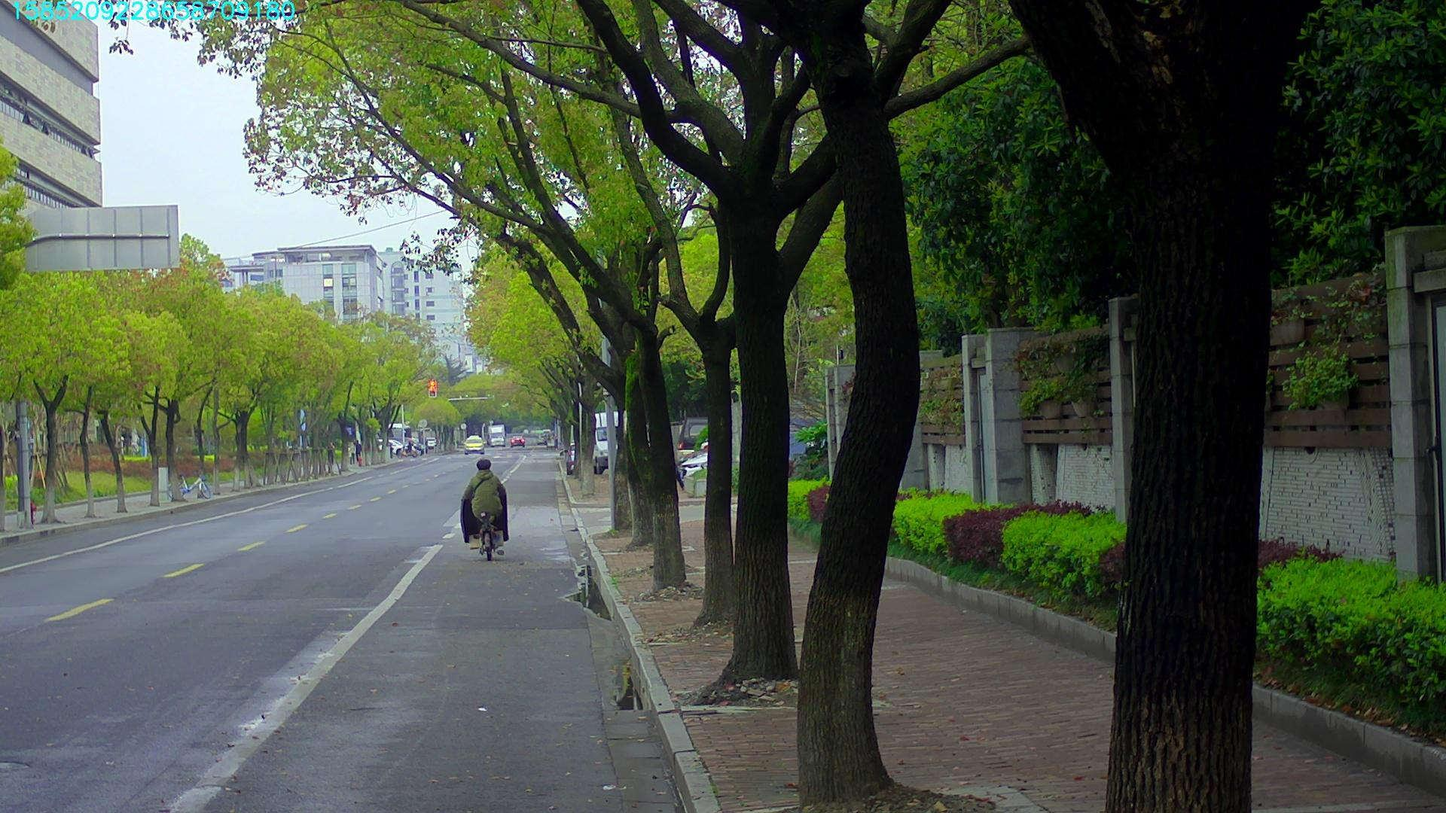red: (428, 379, 436, 397)
